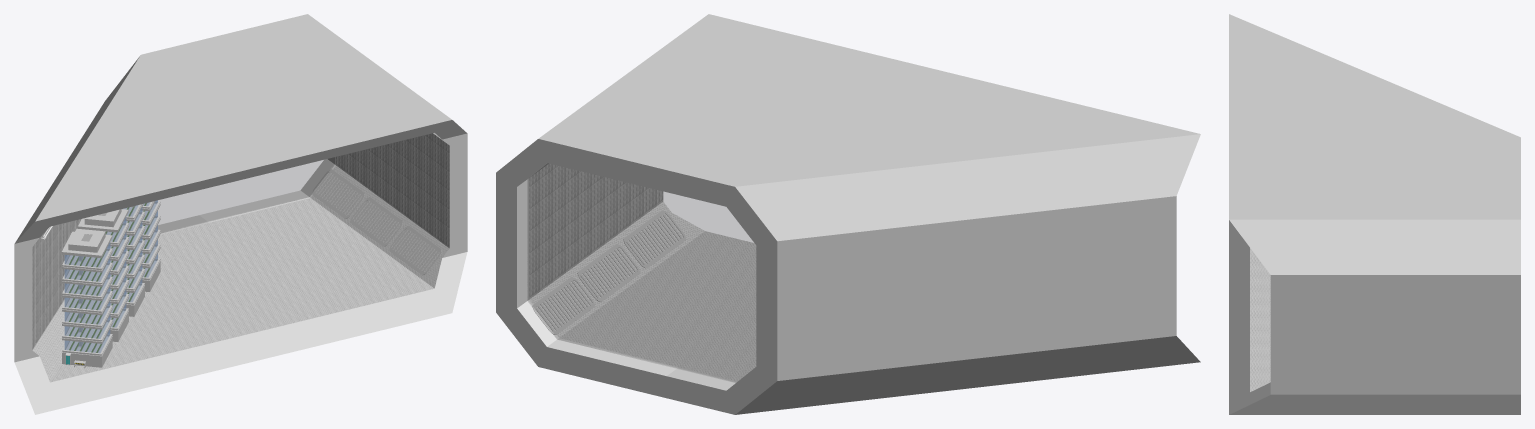
File: ARKHA_HuertaTri_L1_V1.glb
The picture shows the model from 3 angles, left to right: view 1: azimuth 30°, elevation 25°; view 2: azimuth 150°, elevation 25°; view 3: azimuth 270°, elevation 25°; orthographic projection. The views are drawn at different scales.
Visible parts, largest first — view 1: 3DGeom-1, 3DGeom-2, 3DGeom-3, 3DGeom-5, 3DGeom-57, 3DGeom-60, 3DGeom-47, 3DGeom-59, 3DGeom-4, 3DGeom-27, 3DGeom-24, 3DGeom-23 (+8 smaller); view 2: 3DGeom-1, 3DGeom-5, 3DGeom-2, 3DGeom-3, 3DGeom-4, 3DGeom-23, 3DGeom-24, 3DGeom-25; view 3: 3DGeom-1, 3DGeom-2.
Part boxes in pixels (x1,y1,x2,y2): 3DGeom-1: [14, 14, 467, 414]; 3DGeom-2: [32, 165, 449, 382]; 3DGeom-3: [32, 133, 449, 349]; 3DGeom-5: [158, 157, 334, 232]; 3DGeom-57: [61, 228, 112, 368]; 3DGeom-60: [64, 242, 110, 353]; 3DGeom-47: [78, 209, 128, 341]; 3DGeom-59: [66, 251, 108, 353]; 3DGeom-4: [199, 157, 335, 222]; 3DGeom-27: [124, 204, 144, 316]; 3DGeom-24: [350, 197, 402, 246]; 3DGeom-23: [389, 226, 441, 275]; 3DGeom-1: [496, 14, 1200, 414]; 3DGeom-5: [528, 163, 755, 382]; 3DGeom-2: [529, 201, 756, 381]; 3DGeom-3: [529, 163, 663, 299]; 3DGeom-4: [517, 163, 678, 375]; 3DGeom-23: [623, 210, 685, 268]; 3DGeom-24: [577, 244, 640, 301]; 3DGeom-25: [532, 277, 594, 334]; 3DGeom-1: [1229, 14, 1520, 414]; 3DGeom-2: [1250, 248, 1270, 391].
Size of the model in its own units: 7.6 by 3.1 by 4.2.
Materials: 17 (6 with a texture image).
